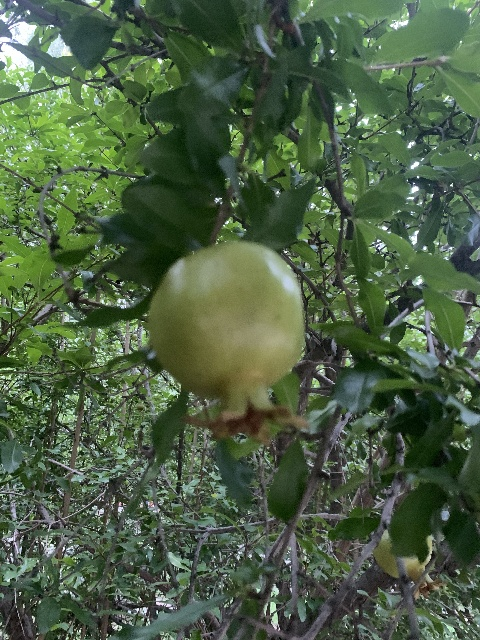mid-growth: (146, 241, 309, 442), (372, 529, 446, 599)
